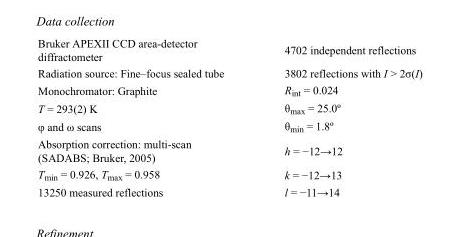table: (37, 36, 421, 198)
table column: (37, 36, 253, 198), (253, 36, 421, 198)
table row: (37, 135, 421, 165), (37, 36, 421, 64), (37, 81, 421, 99), (37, 99, 421, 117), (37, 117, 421, 135), (37, 165, 421, 183), (37, 64, 421, 81), (37, 183, 421, 198)
